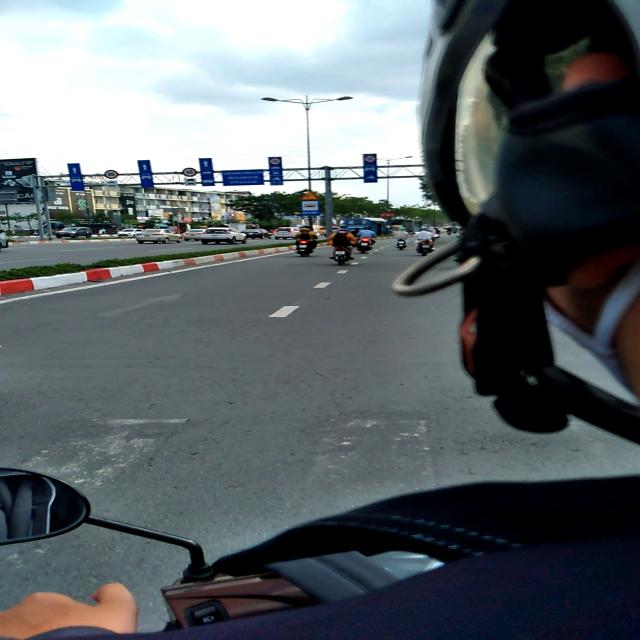P.127: (182, 167, 197, 177), (104, 170, 119, 179), (269, 157, 281, 165), (364, 155, 376, 163)
R.434: (301, 201, 319, 215)
W.201b: (300, 191, 319, 200)
